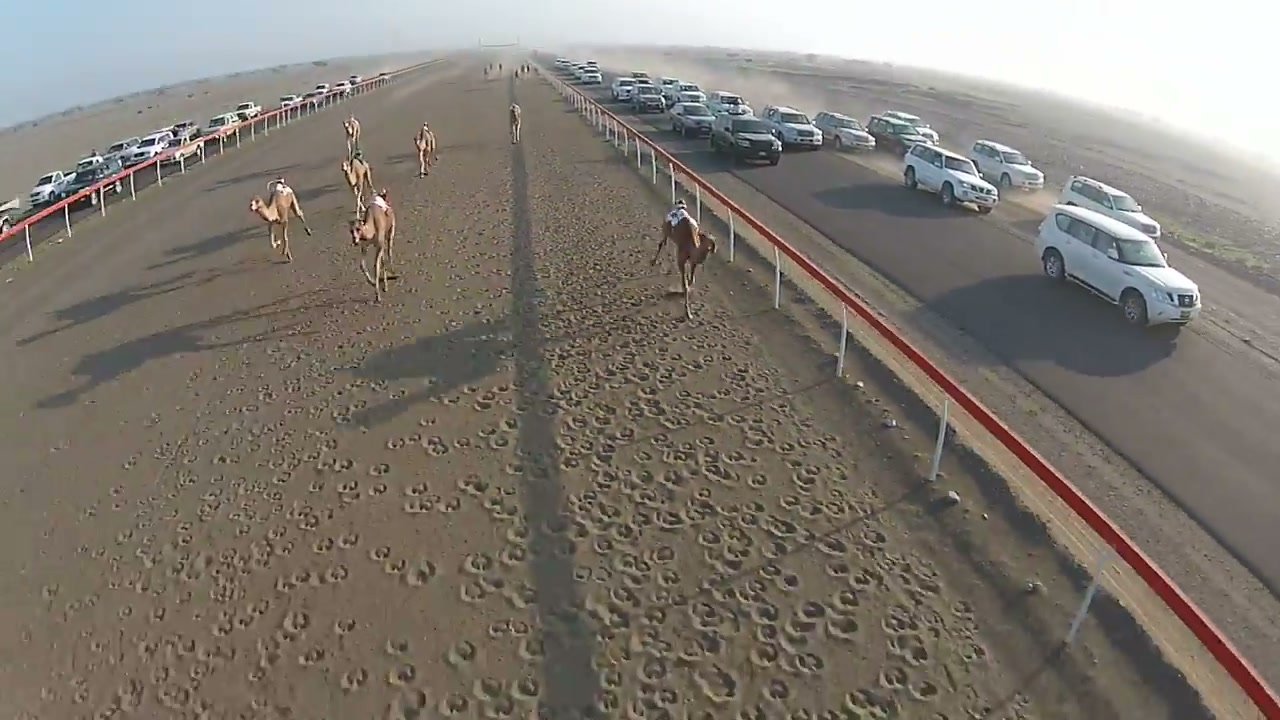animal_footprint: (11, 83, 1080, 719)
